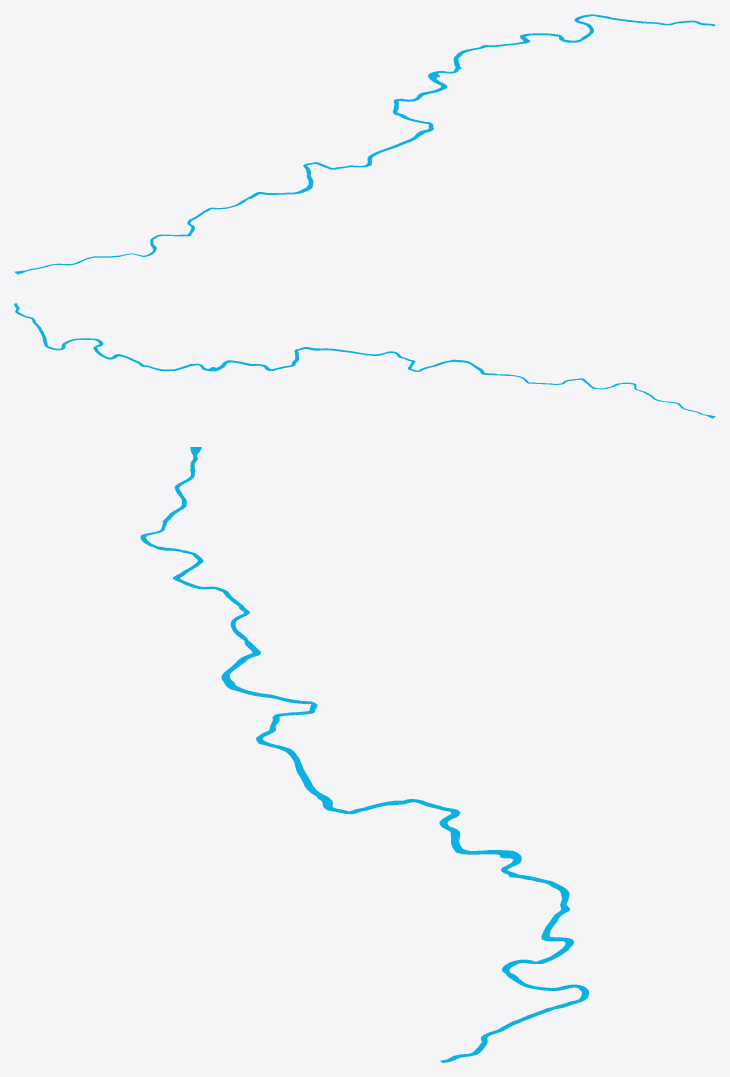
File: RiverMeshPeter.fbx
The picture shows the model from 3 angles, top to bottom: view 1: azimuth 30°, elevation 25°; view 2: azimuth 150°, elevation 25°; view 3: azimuth 270°, elevation 25°; orthographic projection. The views are drawn at different scales.
Visible parts, largest first — view 1: RiverMeshPeter; view 2: RiverMeshPeter; view 3: RiverMeshPeter.
Part boxes in pixels (left/top/right/bottom): RiverMeshPeter: left=14, top=14, right=715, bottom=274; RiverMeshPeter: left=14, top=303, right=715, bottom=418; RiverMeshPeter: left=140, top=447, right=589, bottom=1062.
Bounding box in the file's own units: 11062 × 58.54 × 3368.
